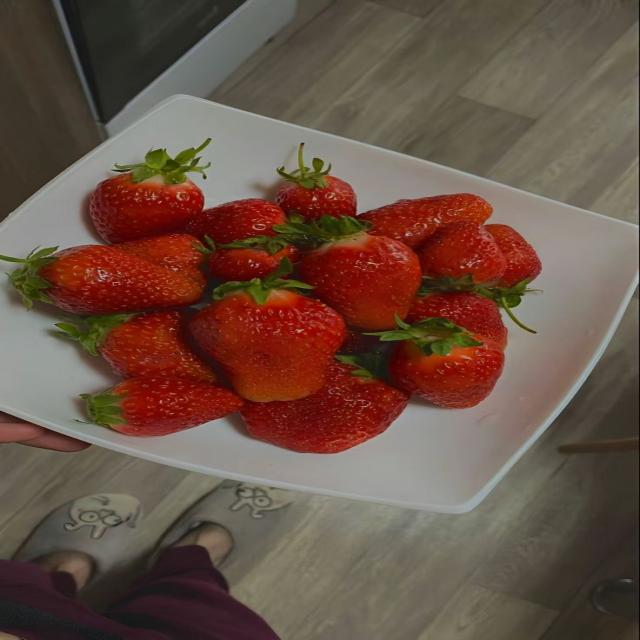strawberry: (191, 259, 345, 402), (277, 216, 420, 330), (241, 363, 409, 453), (0, 245, 206, 314), (90, 140, 210, 242), (56, 311, 216, 382), (379, 318, 504, 408), (80, 376, 243, 436), (421, 274, 539, 333), (360, 194, 492, 246), (276, 143, 356, 220), (406, 292, 507, 348), (418, 221, 506, 283), (185, 198, 285, 243), (208, 236, 299, 280), (485, 224, 541, 287), (117, 233, 205, 271), (340, 329, 379, 354)
